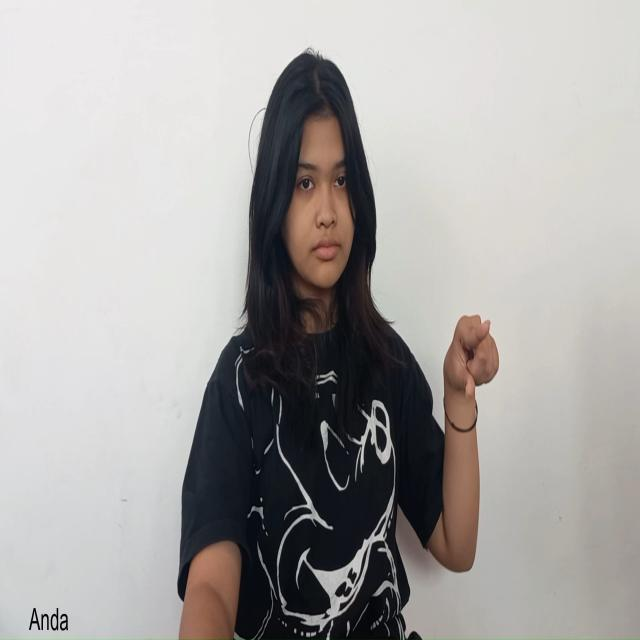Anda -BISINDO-: (442, 310, 501, 408)
